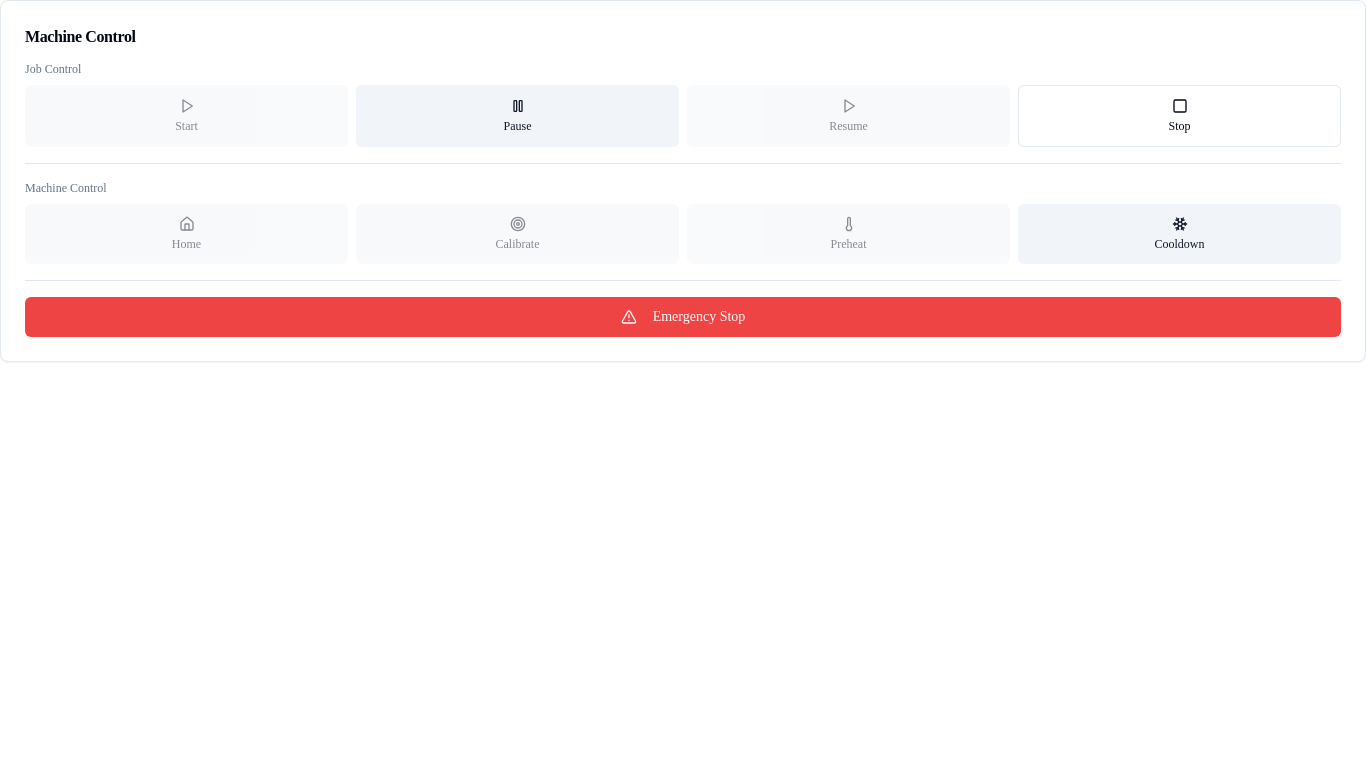
Test case: MachineControlPanel › shows confirmation dialog when Stop is clicked
Click the button "Stop". click: click(1180, 116)
box: left=1018, top=85, right=1341, bottom=147
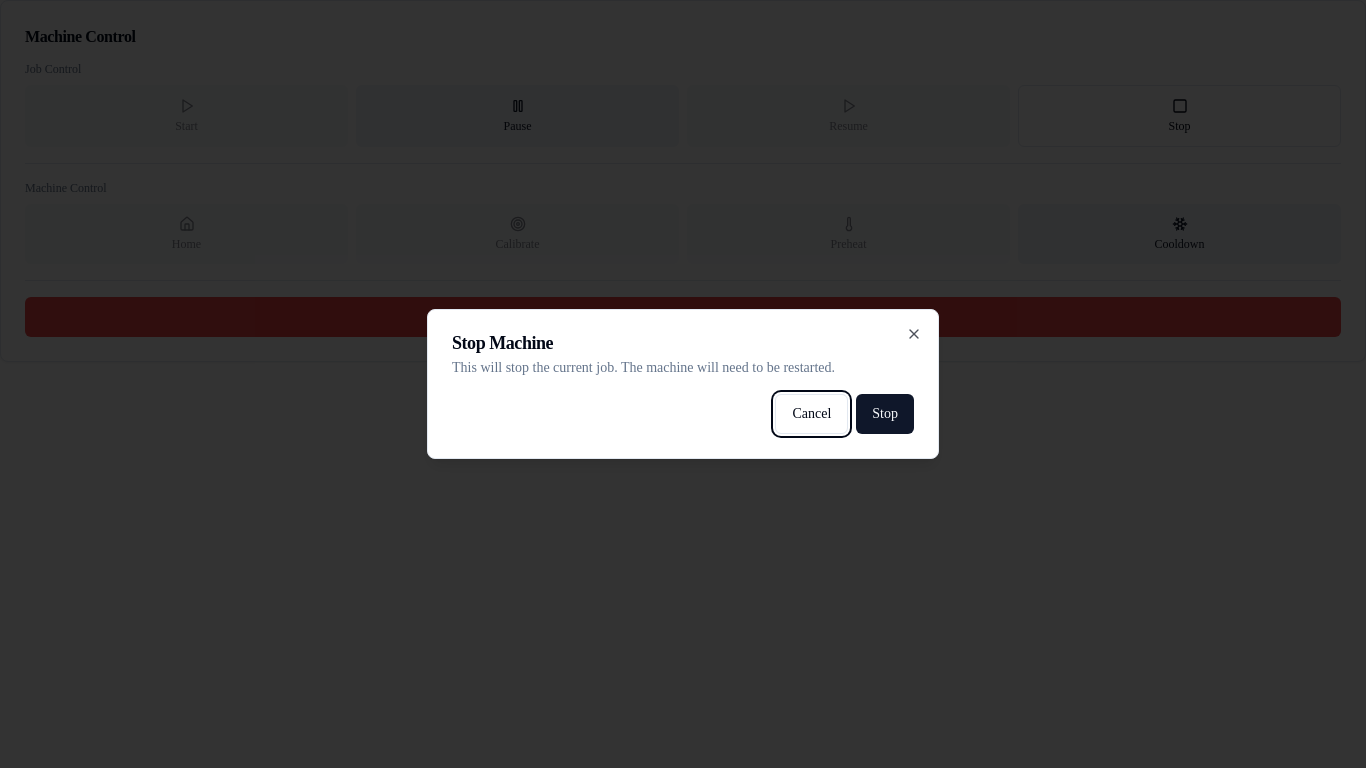
Expected: the text "This will stop the current job. The machine will need to be restarted." is shown, left=452, top=360, right=835, bottom=375
